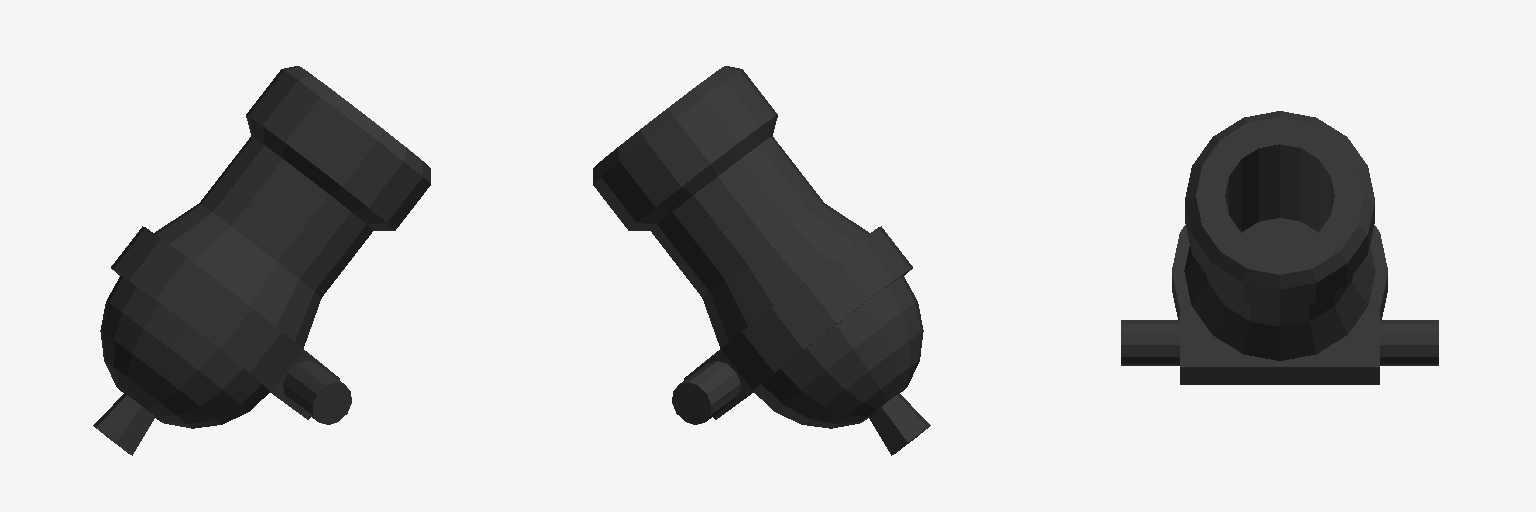
Rendered from Cannon.obj.
The picture shows the model from 3 angles: view 1: azimuth 30°, elevation 25°; view 2: azimuth 150°, elevation 25°; view 3: azimuth 270°, elevation 25°; orthographic projection.
Visible parts, largest first — view 1: Cannon; view 2: Cannon; view 3: Cannon.
Part boxes in pixels (x1,y1,x2,y2): Cannon: (93,66,430,455); Cannon: (593,66,930,455); Cannon: (1121,111,1438,384).
Size of the model in its own units: 3.51 by 3.51 by 3.02.